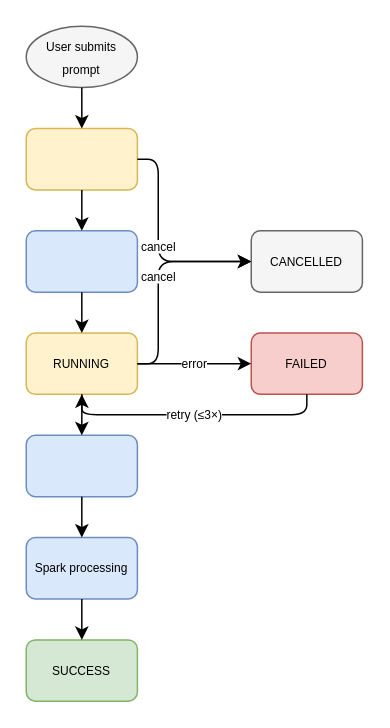
This 390x728 diagram has some shape labels left out. The centre of each missing label's shape, as x and y in pixels:
QUEUED: point 81,158
Regex generation: point 81,465
Triage: point 81,260
